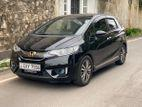car: (9, 14, 127, 85)
